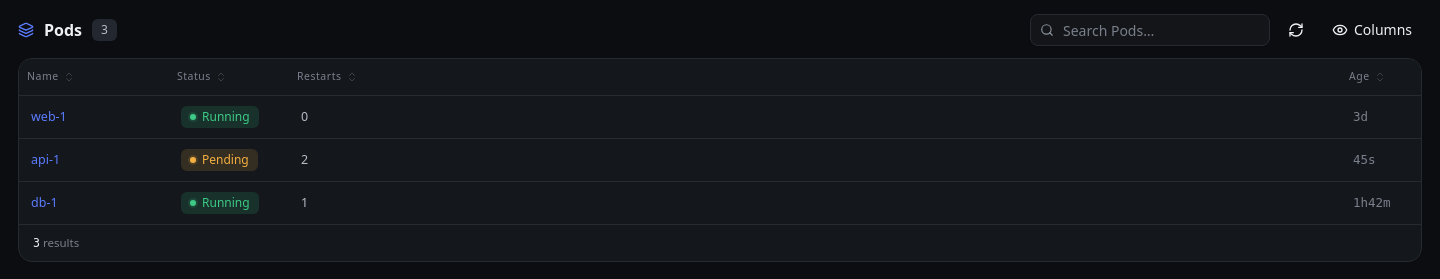
Scenario: ResourceListPage › filters rows by the search box across visible columns and reports no matches
The image size is (1440, 279).
Type "pend" into the field labelled "Search Pods…". click: {"x": 1150, "y": 30}
box: 1030,14 -> 1270,46
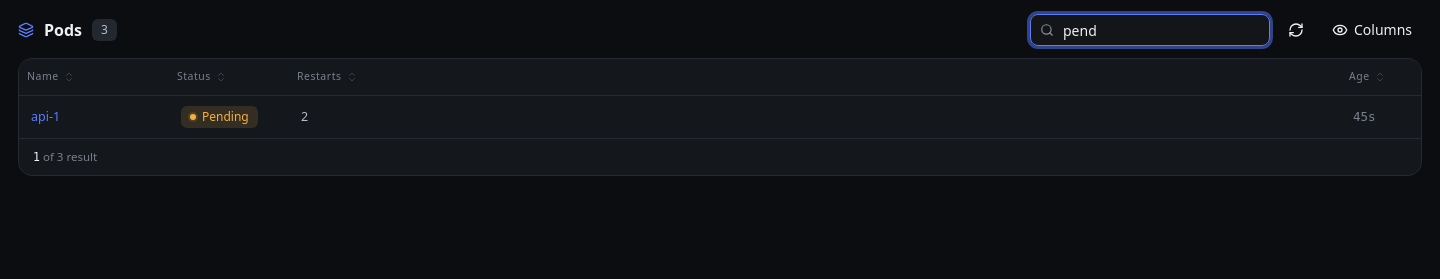
Expected: the element with test id "resource-list" shows "1 of 3 result"
Replace the text in the field named "Search Pods…" with "zzz". click: {"x": 1150, "y": 30}
box: 1030,14 -> 1270,46
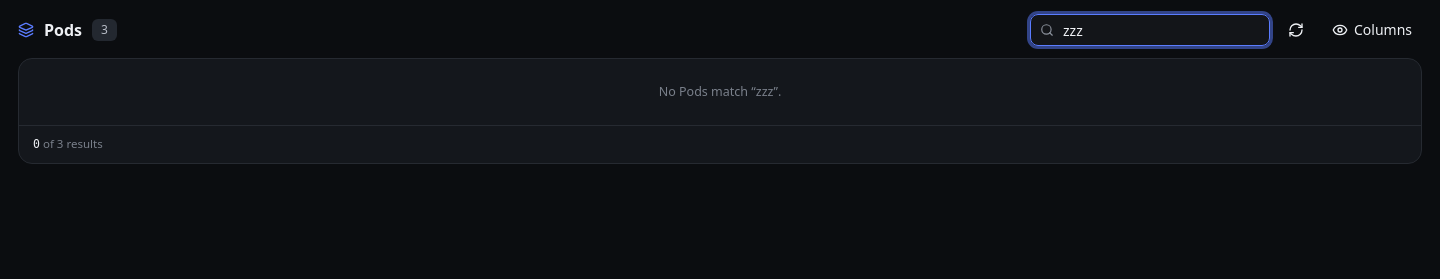
Expected: the text "No Pods match “zzz”." is shown, 659,83 -> 781,100
